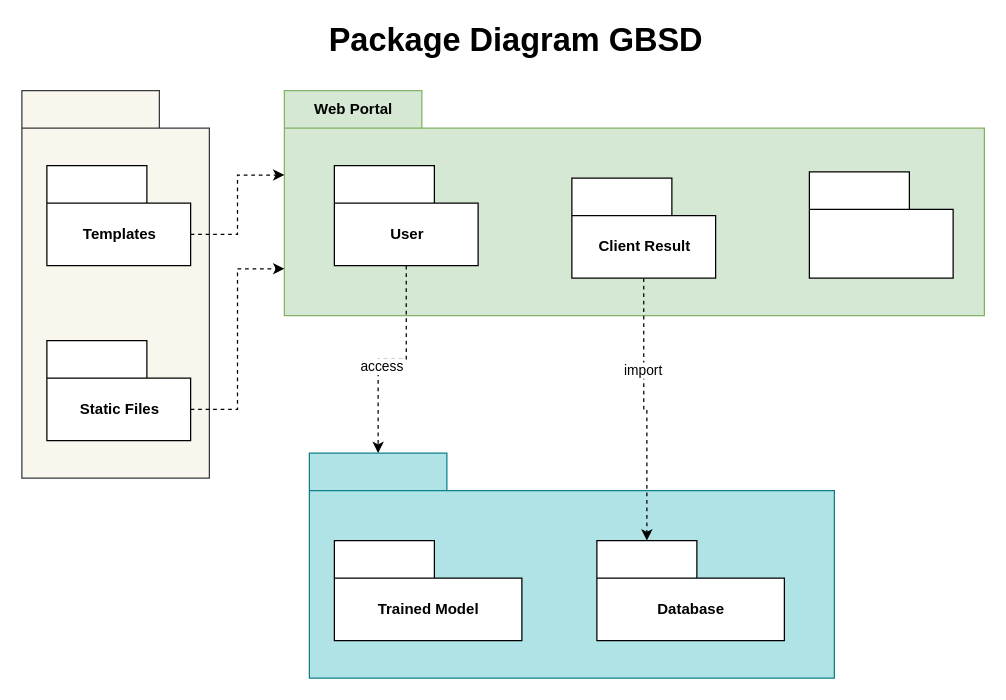
The diagram is 1006 pixels wide and 700 high, and some of its shapes have lost their labels. The shapes that lost their labels are listed below. From the top down, each one's box as (x1, y1, x2, y2) in pixels, then its label:
(808, 171, 953, 278): Video Capture
(21, 89, 209, 478): Front-End
(308, 452, 834, 678): Back-End
